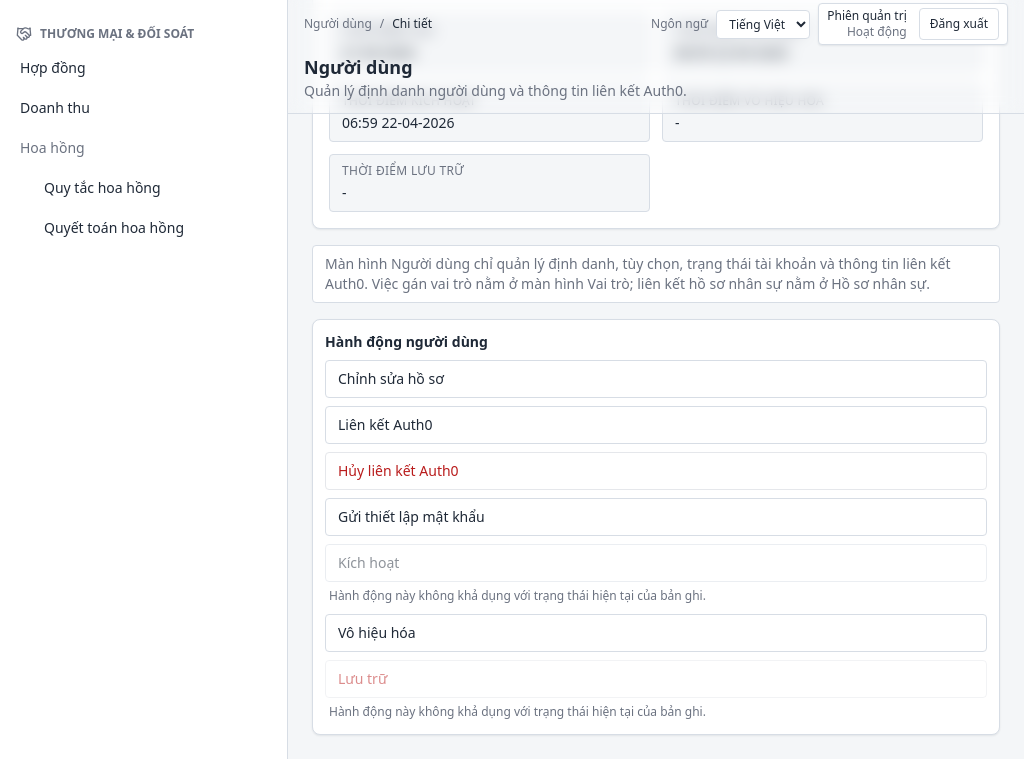
it: user IA-1 surfaces › shows email-sent feedback for auth0_email password setup and never displays a setup URL
(page scrolled)
Click the button "Gửi thiết lập mật khẩu" at (411, 516), box [325,498,987,536]
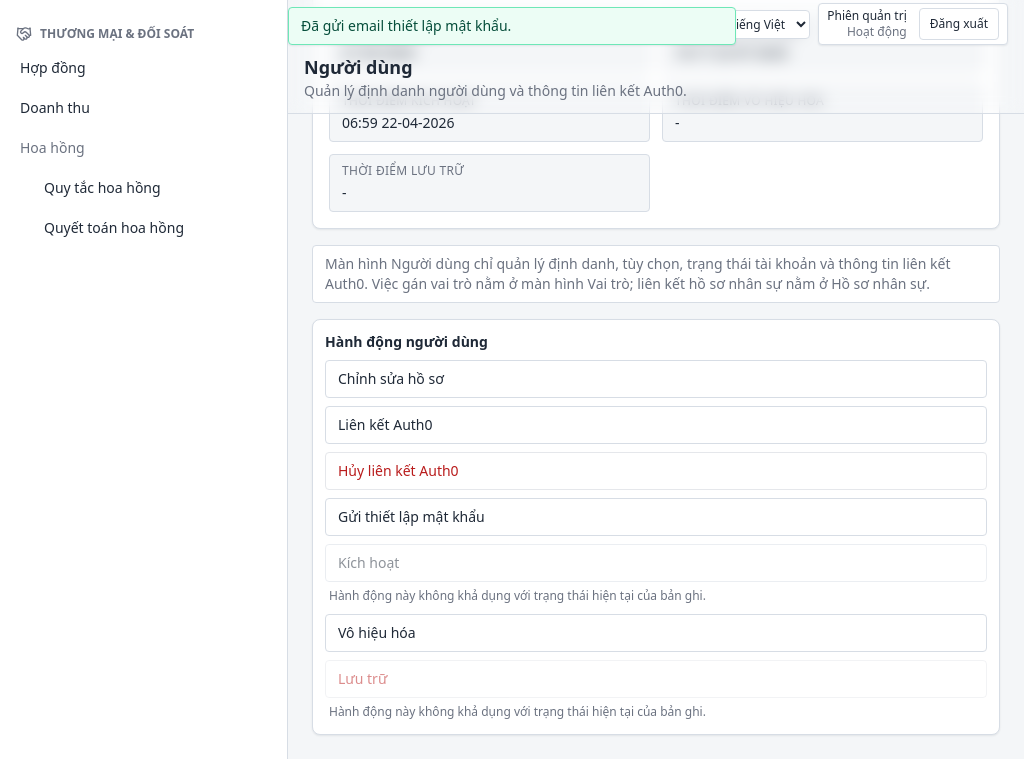
Check: the text "Đã gửi email thiết lập mật khẩu." is shown, box [288,7,736,45]
